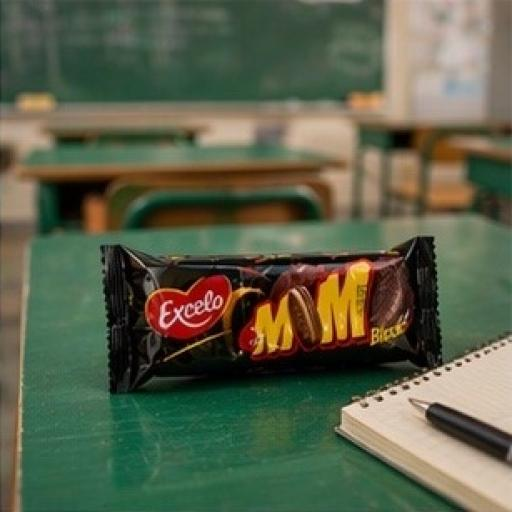MOMO: (65, 186, 490, 428)
